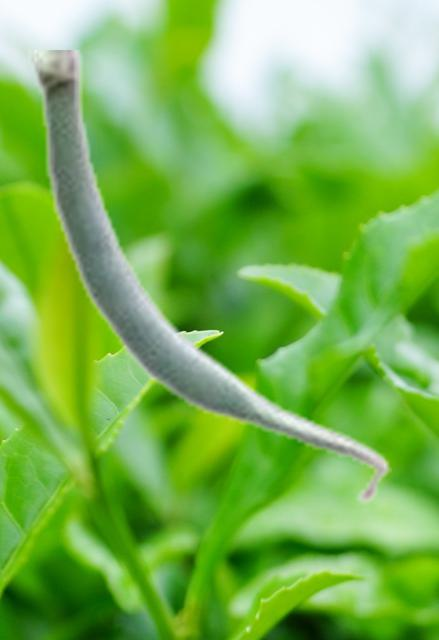french_bean: (28, 50, 390, 506)
